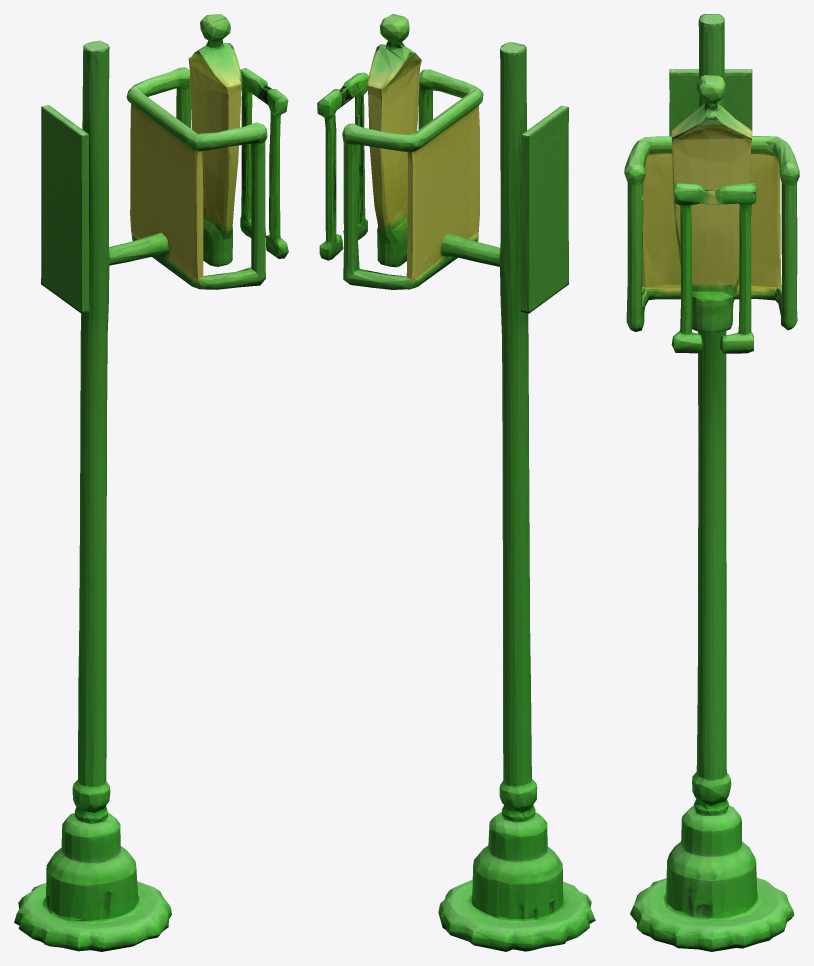
File: traffic_light.glb
The picture shows the model from 3 angles, left to right: view 1: azimuth 30°, elevation 25°; view 2: azimuth 150°, elevation 25°; view 3: azimuth 270°, elevation 25°; orthographic projection. The views are drawn at different scales.
Visible parts, largest first — view 1: world; view 2: world; view 3: world.
Part boxes in pixels (x1,y1,x2,y2): world: (14, 14, 288, 951); world: (317, 14, 595, 951); world: (624, 14, 799, 951).
Bounding box in the file's own units: 0.2945 × 1 × 0.1763.
1 material, 1 textured.
